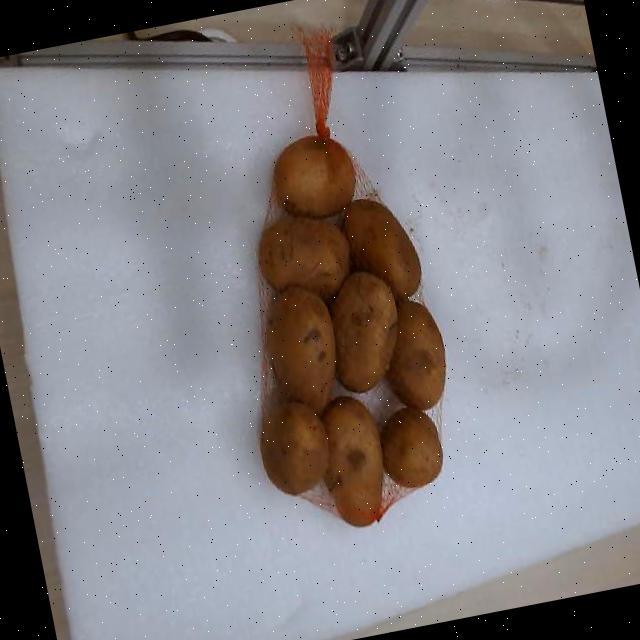potato: (265, 286, 335, 412), (330, 271, 397, 392), (321, 400, 382, 527), (257, 216, 349, 300), (342, 201, 421, 298), (273, 135, 355, 218), (259, 401, 328, 495), (386, 300, 443, 410), (381, 409, 442, 487)
